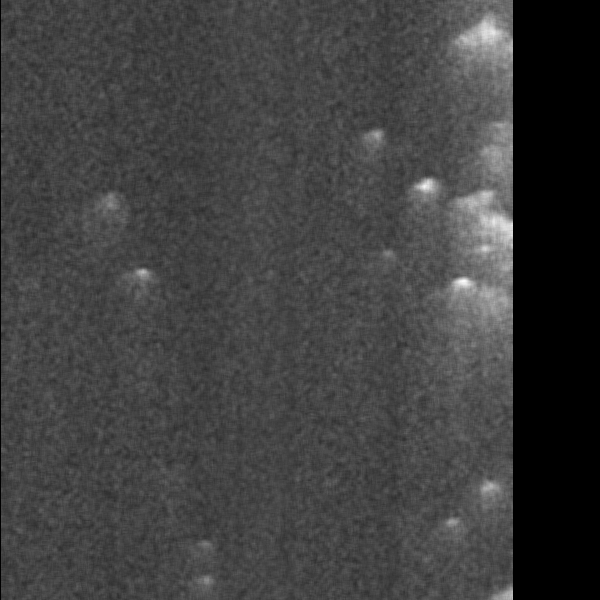spark: (21, 175, 65, 260), (303, 61, 350, 109), (343, 550, 385, 599), (431, 552, 467, 594)
